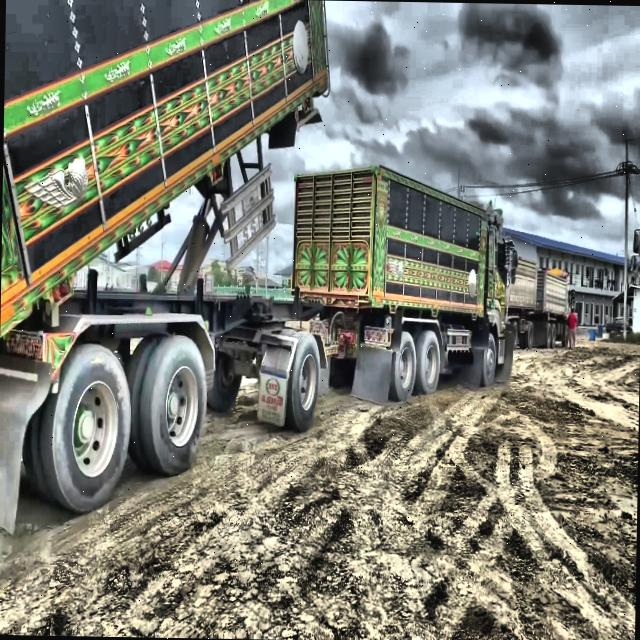trailer: (0, 0, 514, 520), (462, 256, 578, 356)
